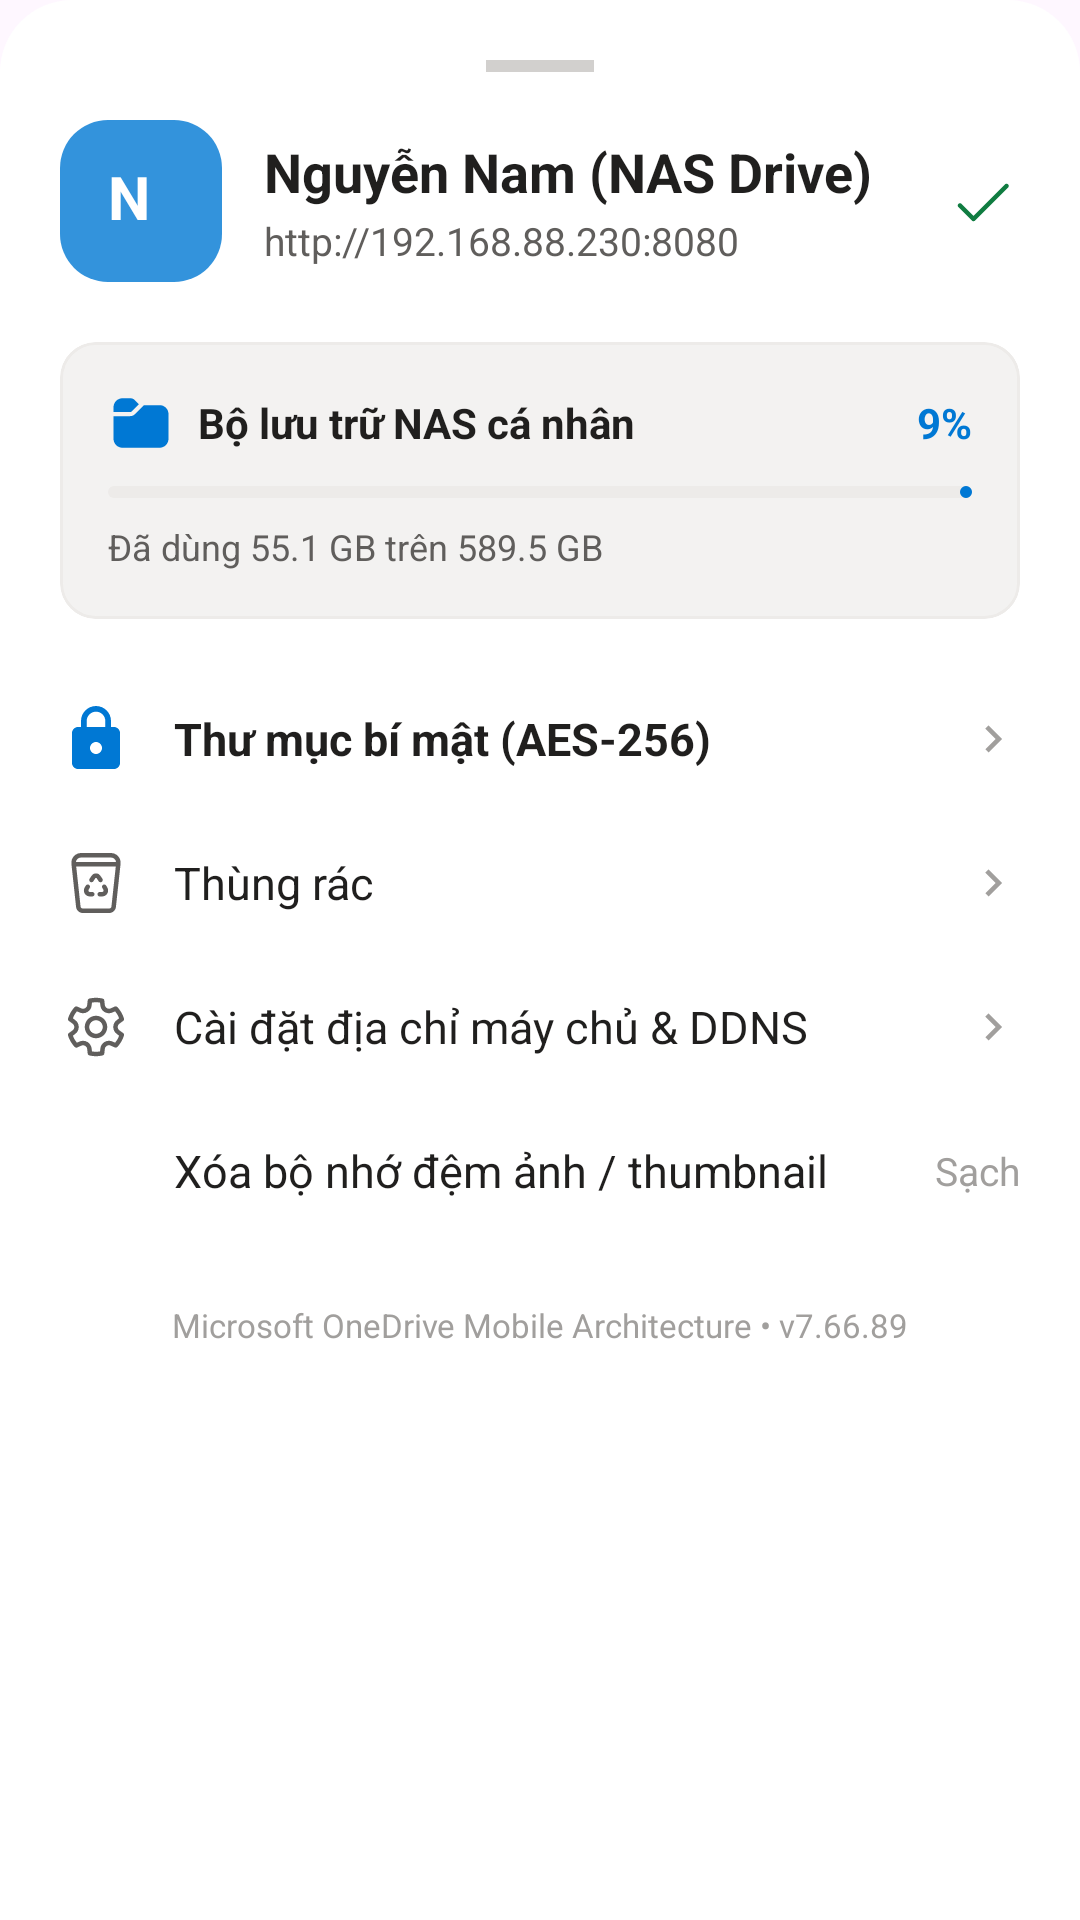

Icon click points for this 1080*1920 phone screenshot, format point (x, y):
chevron right: point (993, 738), point (993, 882), point (993, 1026)
fluent bin recycle: point (96, 883)
fluent checkmark: point (983, 202)
fluent folder: point (141, 423)
fluent settings: point (96, 1027)
lock: point (96, 737)
